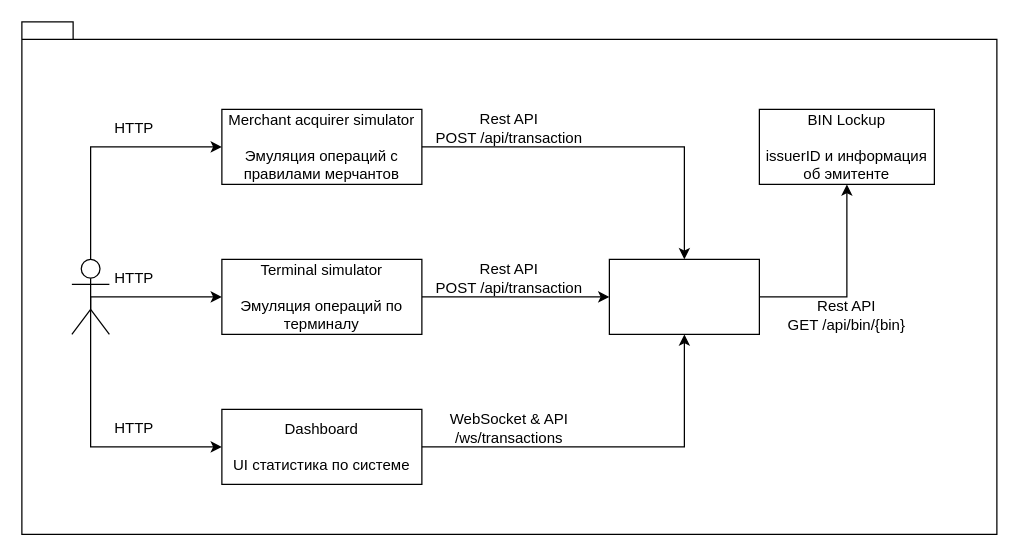
The diagram is 1019 pixels wide and 556 high, and some of its shapes have lost their labels. Here are the shapes that lost their labels. From the top down, the centre of each, then its label:
At (90,296): "Пользователь".
At (683,296): "СМП".
